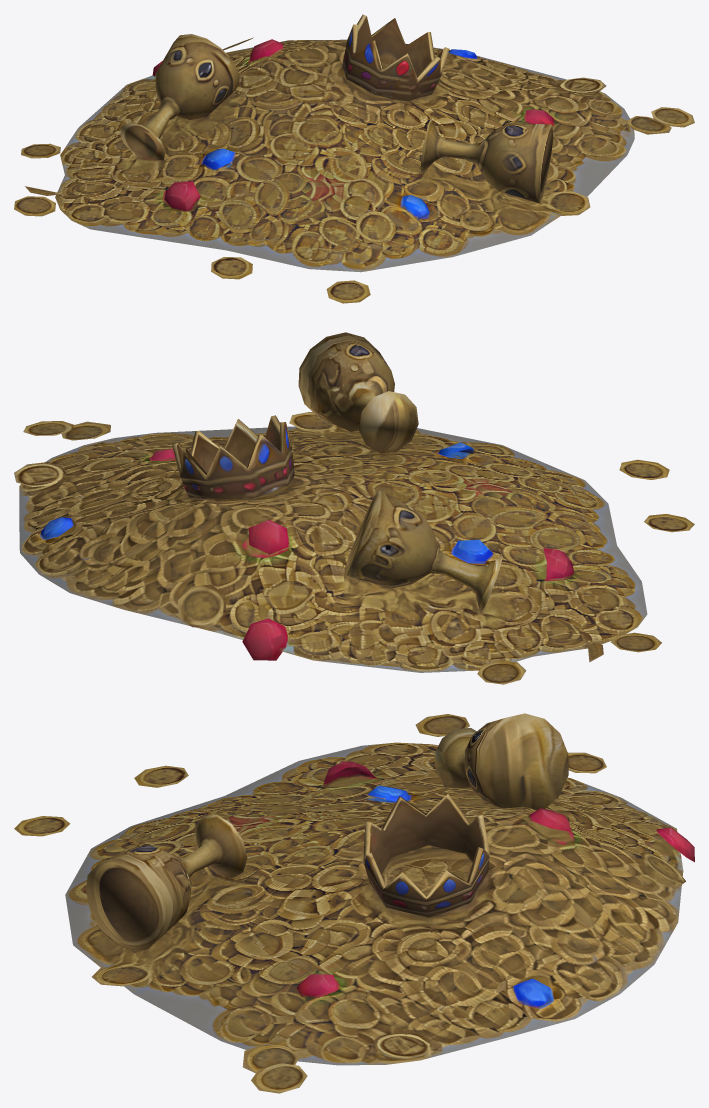
The model's file is oro.glb.
3 renders of one model, top to bottom at view 1: azimuth 30°, elevation 25°; view 2: azimuth 150°, elevation 25°; view 3: azimuth 270°, elevation 25°, orthographic. The views are drawn at different scales.
Visible parts, largest first — view 1: oro; view 2: oro; view 3: oro.
Boxes of the visible parts, x1,y1,x2,y2 form: oro: (14, 14, 694, 303); oro: (14, 332, 694, 684); oro: (14, 713, 694, 1093).
Bounding box in the file's own units: 0.9995 × 0.1724 × 0.772.
1 material, 1 textured.
